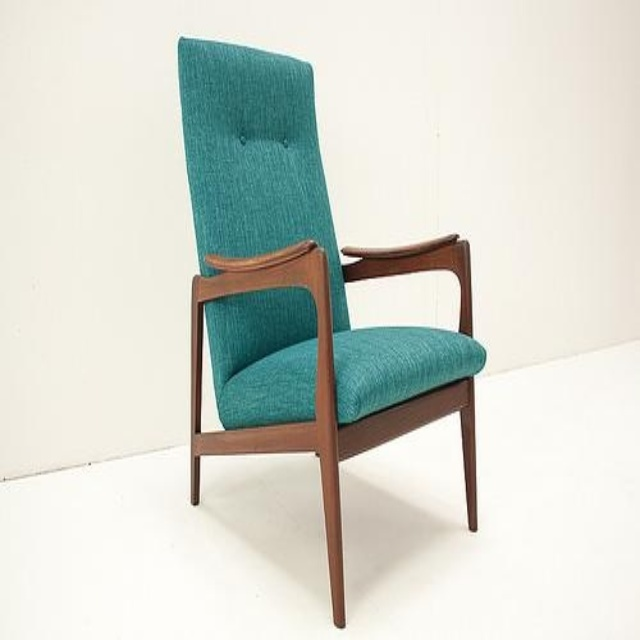obstacle: (178, 38, 484, 625)
